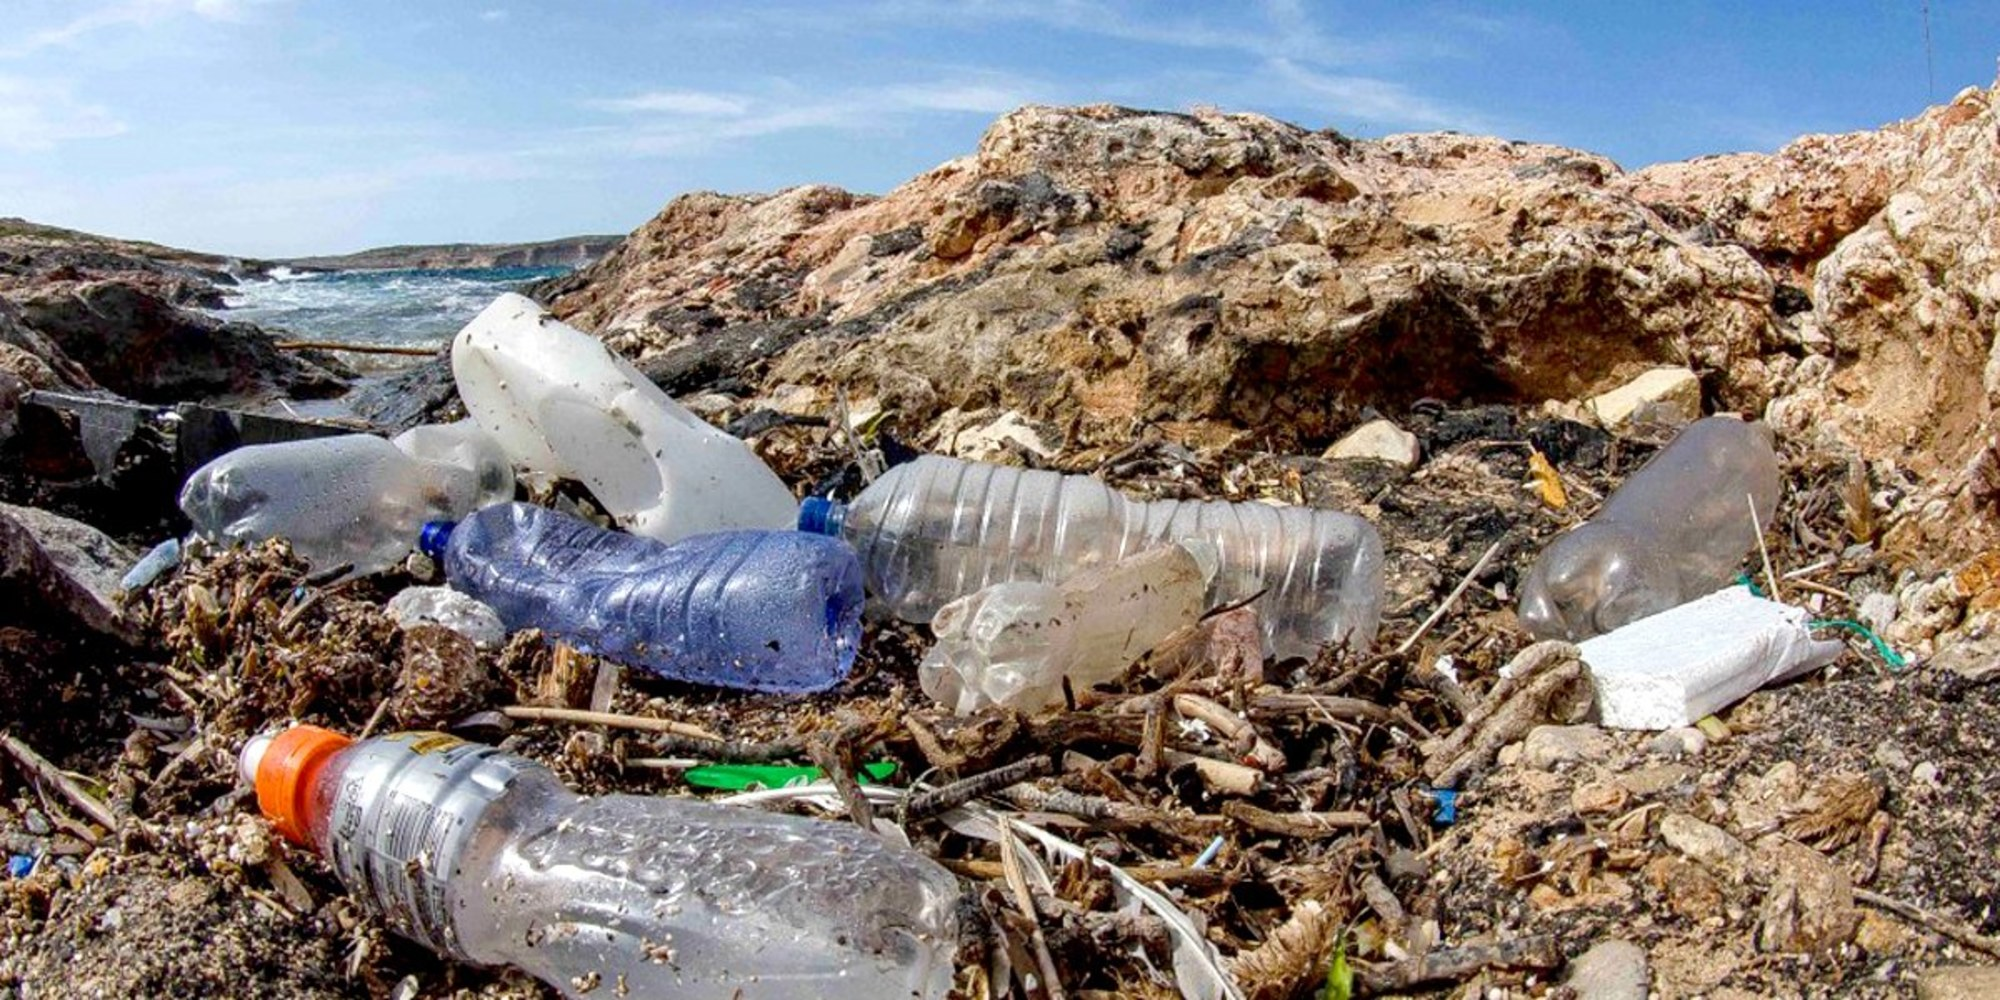bottle: (240, 724, 971, 1000), (800, 458, 1381, 640), (454, 293, 805, 557), (421, 497, 858, 698), (1531, 416, 1776, 639), (180, 417, 511, 566), (918, 548, 1218, 713)
